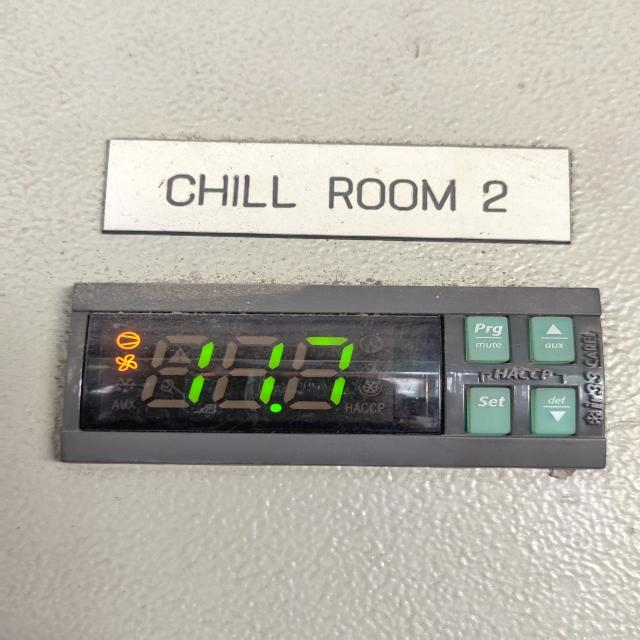display: (83, 312, 445, 436)
frame: (177, 328, 362, 416), (479, 176, 513, 216)
gauge: (57, 284, 607, 471)
